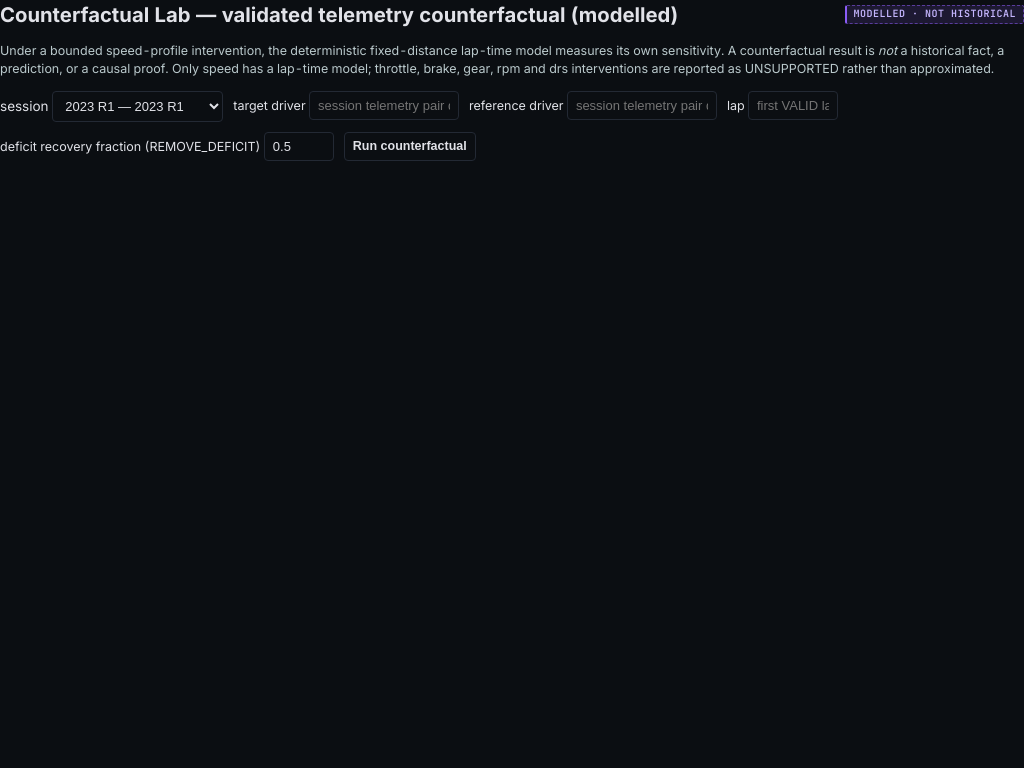
Test case: CounterfactualView (Stitch Counterfactual Lab) › carries the real provenance and output hash
The image size is (1024, 768).
Click the button "Run counterfactual". click: (410, 146)
box: [344,132,476,161]
(page scrolled)
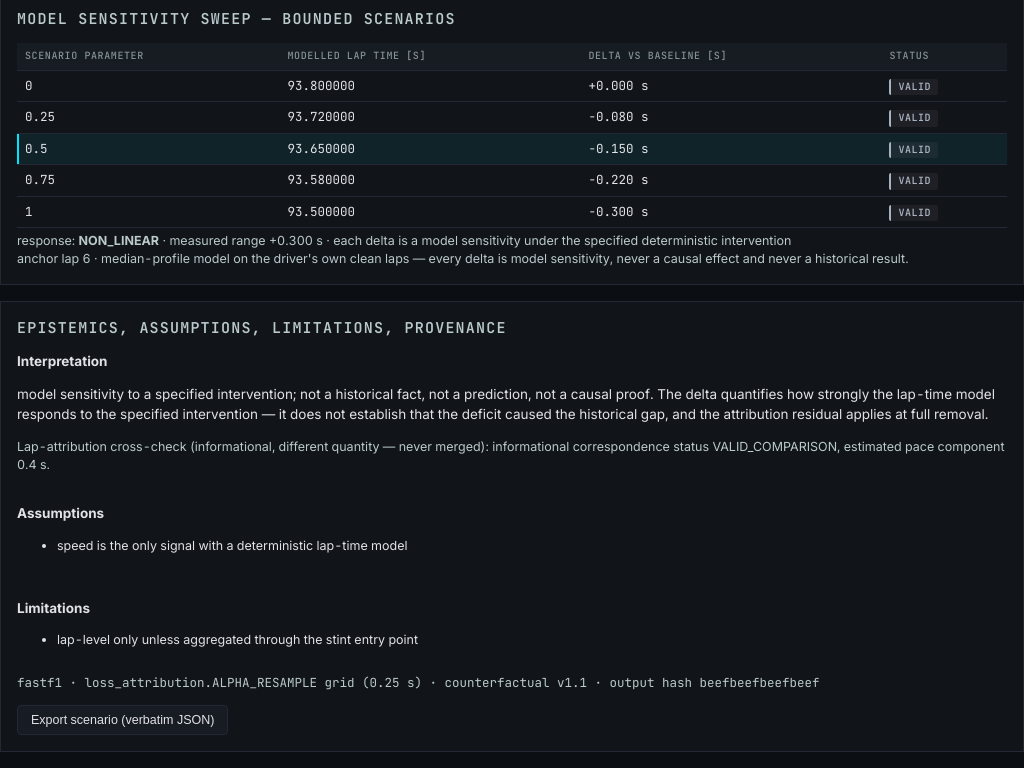
Check: the text "output hash beefbeefbeefbeef" is shown, box [17,674,820,691]
Check: the text "loss_attribution.ALPHA_RESAMPLE grid (0.25 s)" is shown, box [84,674,422,691]
